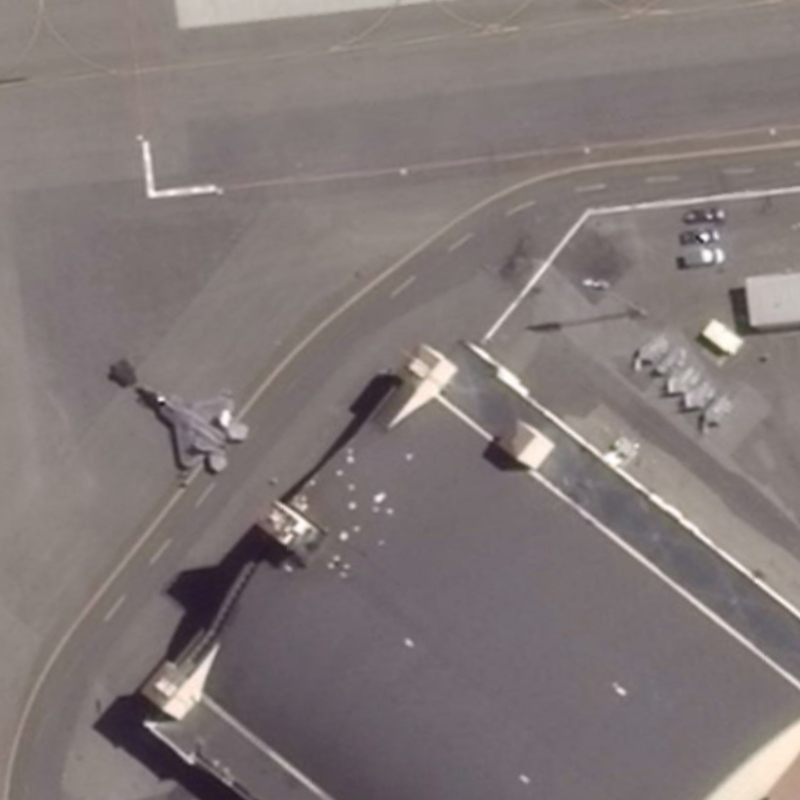A15: (126, 372, 259, 483)
